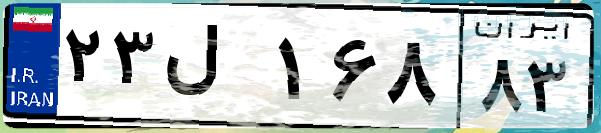1: (270, 28, 330, 110)
2: (57, 26, 110, 100)
3: (525, 38, 570, 115), (110, 28, 158, 98)
6: (330, 28, 385, 110)
8: (385, 28, 445, 110), (475, 38, 525, 113)
ل: (158, 20, 270, 120)
